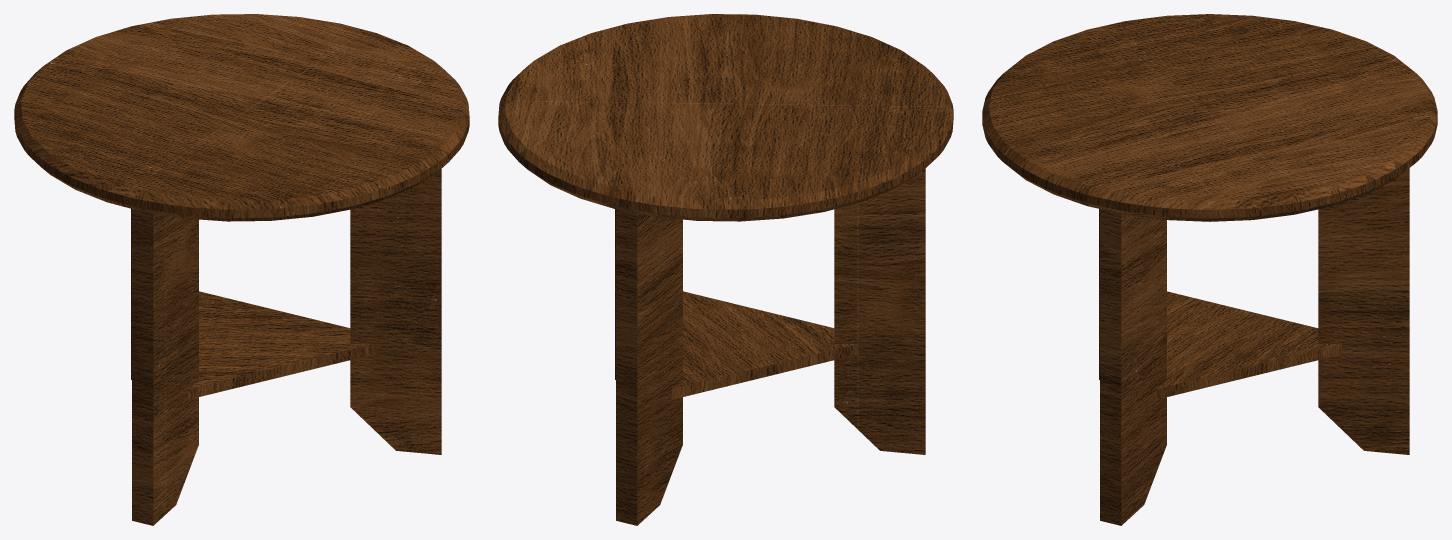
Rendered from Taburetka.fbx.
3 renders of one model, left to right at view 1: azimuth 30°, elevation 25°; view 2: azimuth 150°, elevation 25°; view 3: azimuth 270°, elevation 25°, orthographic.
Visible parts, largest first — view 1: Circle.001; view 2: Circle.001; view 3: Circle.001.
Part boxes in pixels (<box>): Circle.001: <box>14,14,469,525</box>; Circle.001: <box>498,14,953,525</box>; Circle.001: <box>982,14,1437,525</box>.
Bounding box in the file's own units: 299 × 248 × 299.
